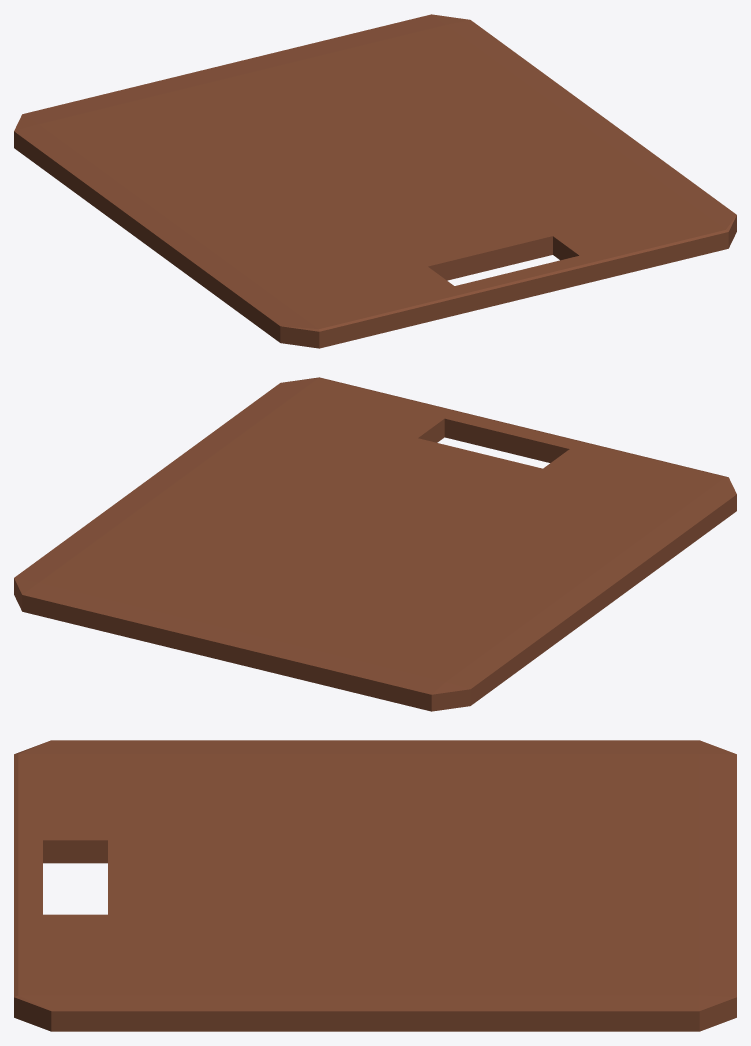
File: cutting board.fbx
3 views of the same model, one above another, from view 1: azimuth 30°, elevation 25°; view 2: azimuth 150°, elevation 25°; view 3: azimuth 270°, elevation 25° (orthographic). The views are drawn at different scales.
Visible parts, largest first — view 1: cutting board; view 2: cutting board; view 3: cutting board.
Part boxes in pixels (x1,y1,x2,y2): cutting board: (14,14,736,348); cutting board: (14,377,736,711); cutting board: (14,740,736,1031).
Bounding box in the file's own units: 78.04 × 3.07 × 87.98.
